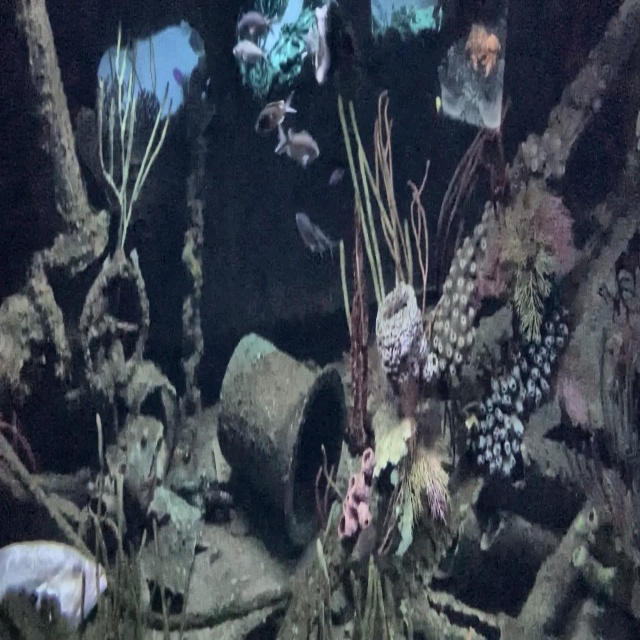fish: (0, 535, 109, 635), (273, 123, 318, 171), (293, 210, 330, 263), (254, 94, 296, 138), (307, 216, 341, 264), (230, 39, 268, 69), (235, 11, 272, 40), (326, 163, 345, 191)
